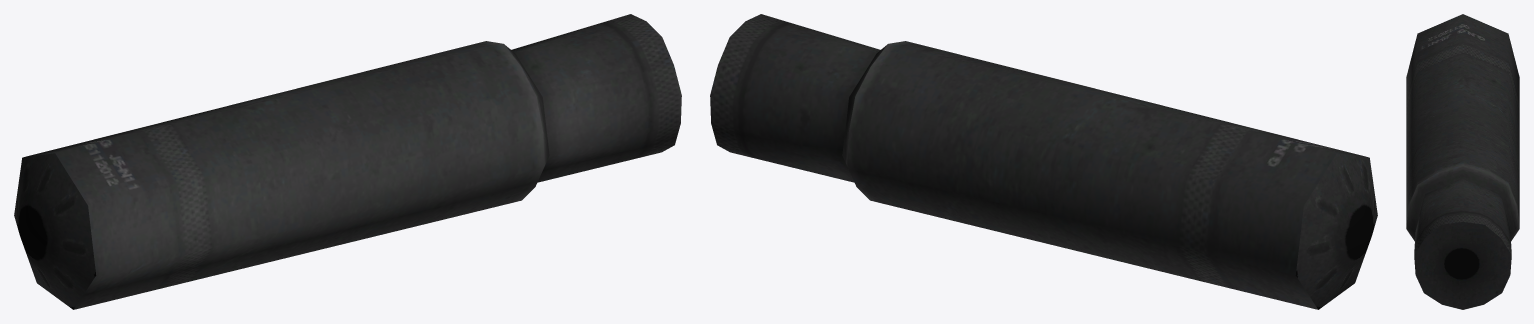
Rendered from t6_attach_shotgun_silencer2_world_LOD0.obj.
The picture shows the model from 3 angles, left to right: view 1: azimuth 30°, elevation 25°; view 2: azimuth 150°, elevation 25°; view 3: azimuth 270°, elevation 25°; orthographic projection. The views are drawn at different scales.
Parts seen in each view (by area): view 1: mtl_t6_attach_shotgun_silencer1; view 2: mtl_t6_attach_shotgun_silencer1; view 3: mtl_t6_attach_shotgun_silencer1.
Boxes of the visible parts, x1,y1,x2,y2 form: mtl_t6_attach_shotgun_silencer1: (14, 14, 681, 309); mtl_t6_attach_shotgun_silencer1: (710, 14, 1377, 309); mtl_t6_attach_shotgun_silencer1: (1406, 14, 1519, 309).
Size of the model in its own units: 23.87 by 5.37 by 5.42.
